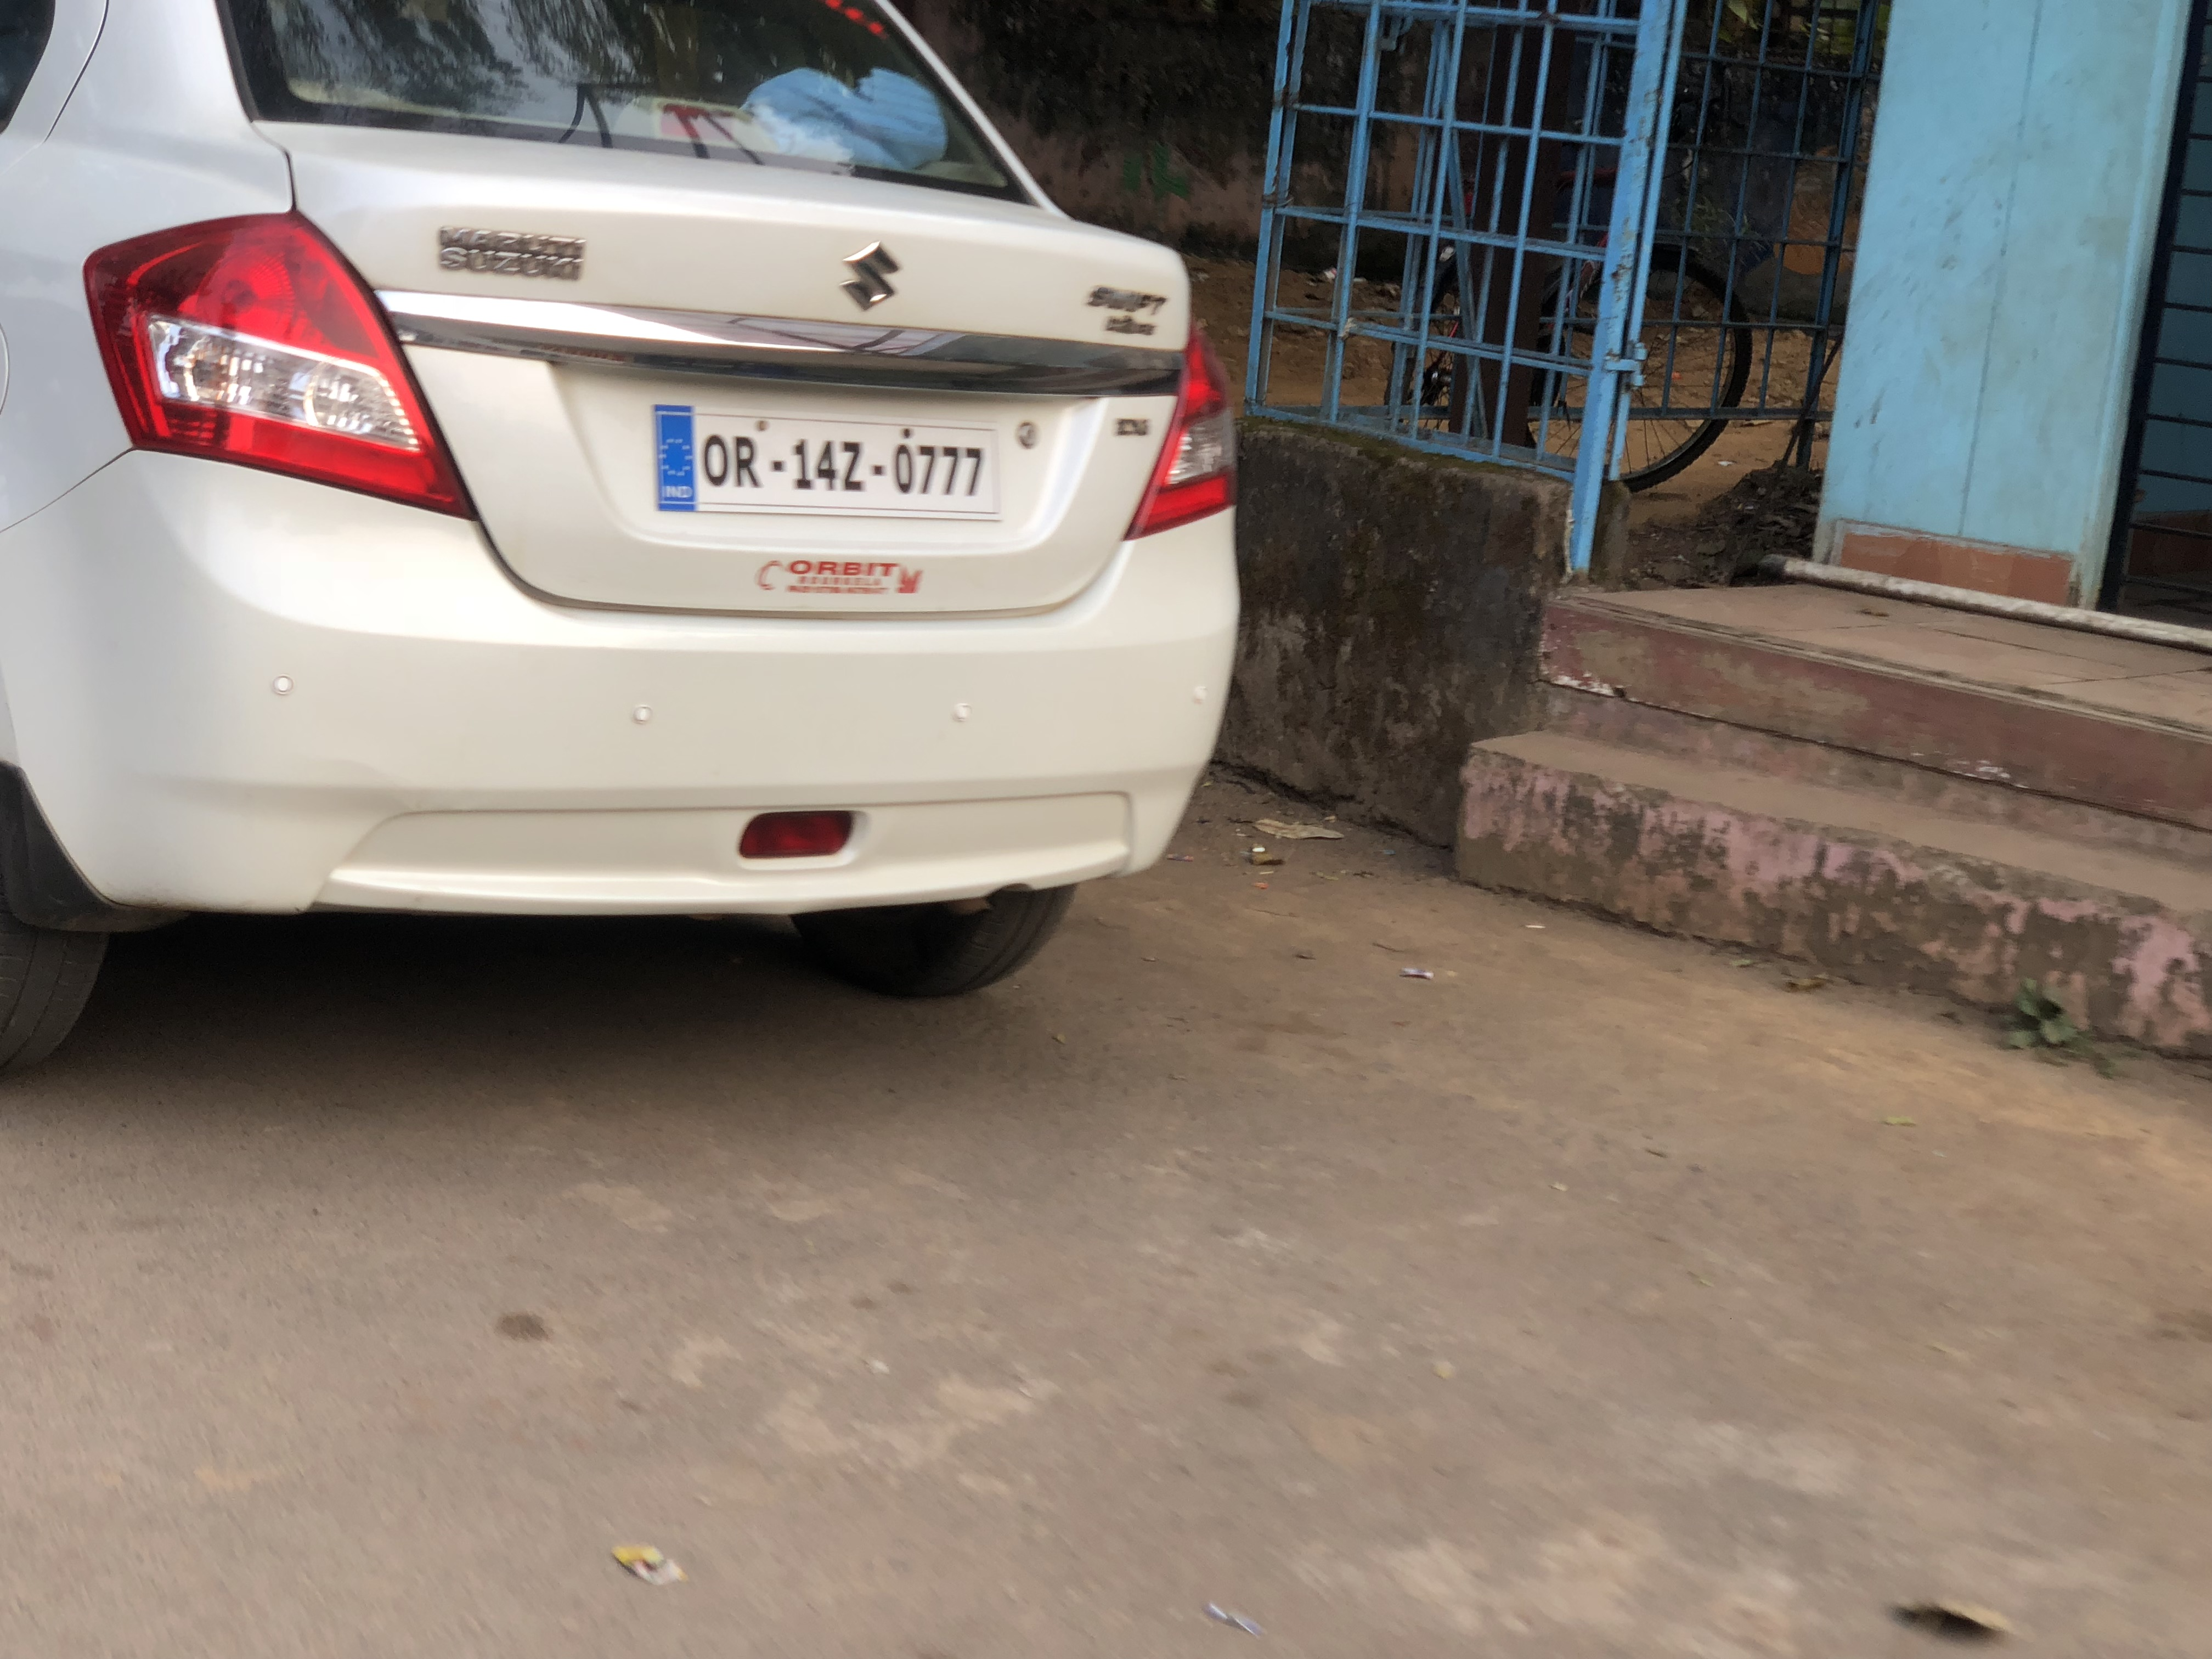licenseplate: (636, 368, 1023, 534)
